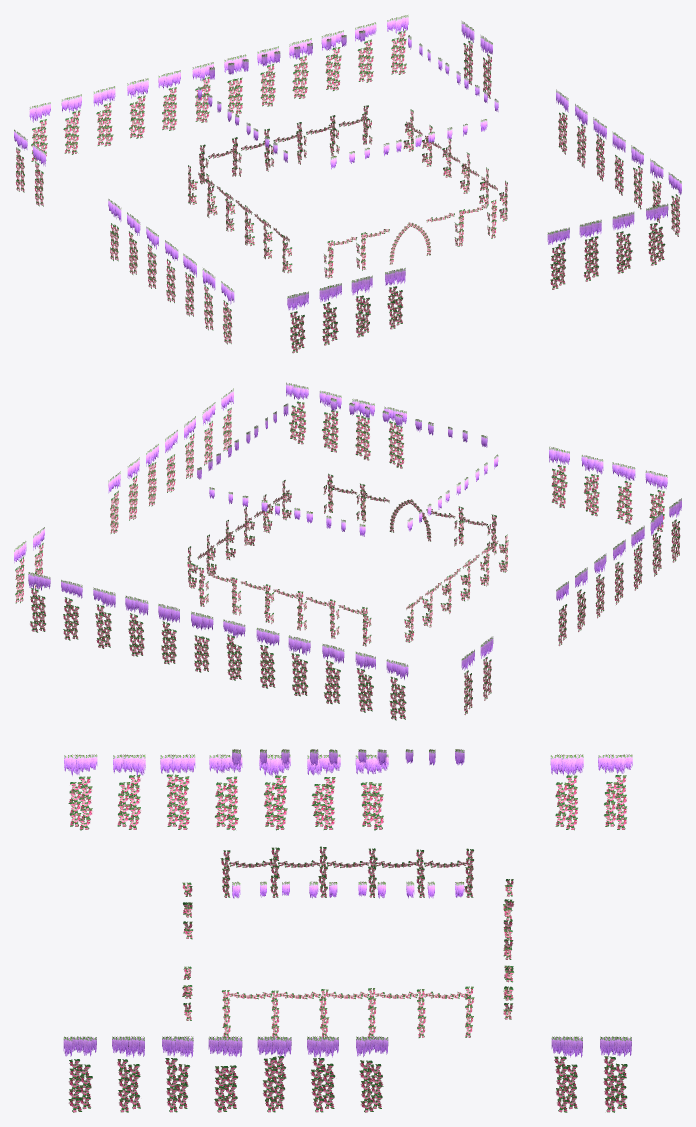
File: citadel_vines.glb
3 renders of one model, top to bottom at view 1: azimuth 30°, elevation 25°; view 2: azimuth 150°, elevation 25°; view 3: azimuth 270°, elevation 25°, orthographic. The views are drawn at different scales.
Visible parts, largest first — view 1: vines_rose_vine_cards, vines_wisteria_cards; view 2: vines_rose_vine_cards, vines_wisteria_cards; view 3: vines_rose_vine_cards, vines_wisteria_cards.
Part boxes in pixels (box(x1,y1,x2,y2)): vines_rose_vine_cards: box(15, 30, 680, 353); vines_wisteria_cards: box(14, 15, 681, 310); vines_rose_vine_cards: box(15, 401, 680, 720); vines_wisteria_cards: box(14, 382, 681, 679); vines_rose_vine_cards: box(68, 774, 627, 1112); vines_wisteria_cards: box(63, 749, 632, 1057).
Bounding box in the file's own units: 110 × 28.4 × 110.
Materials: 2 (2 with a texture image).
